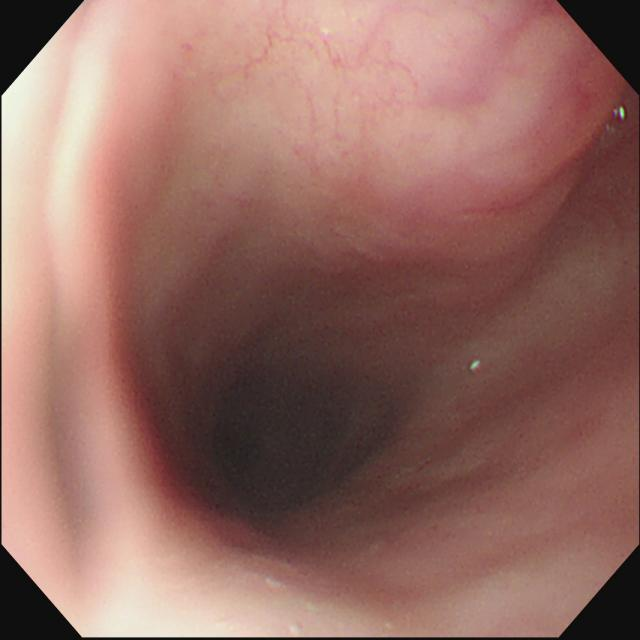E: (205, 362, 345, 520)
